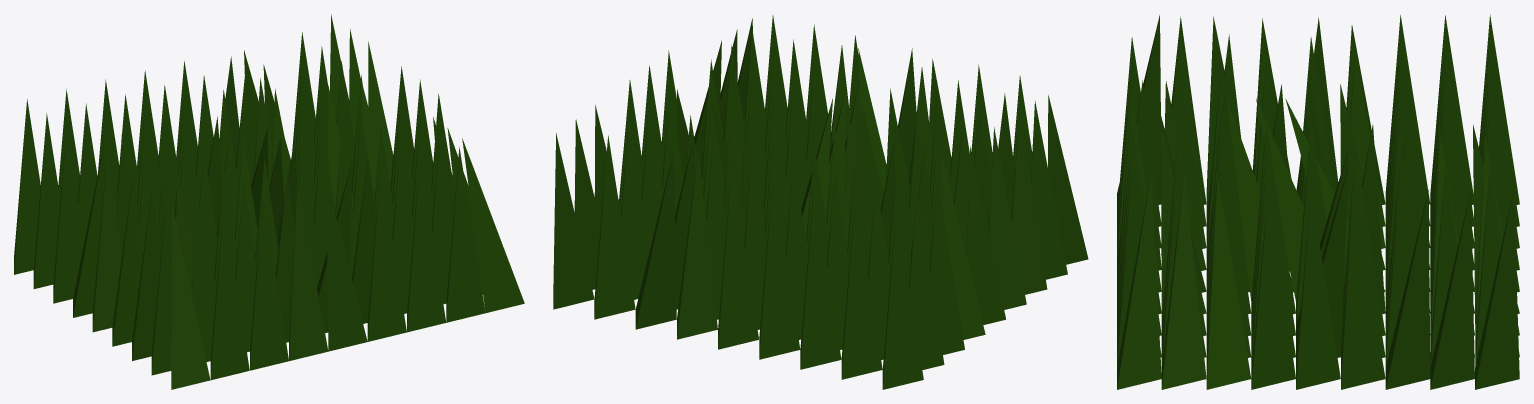
File: Grass.fbx
3 renders of one model, left to right at view 1: azimuth 30°, elevation 25°; view 2: azimuth 150°, elevation 25°; view 3: azimuth 270°, elevation 25°, orthographic. The views are drawn at different scales.
Parts seen in each view (by area): view 1: Cylinder; view 2: Cylinder; view 3: Cylinder.
Part boxes in pixels (x1,y1,x2,y2): Cylinder: (14, 14, 524, 389); Cylinder: (553, 15, 1088, 389); Cylinder: (1117, 14, 1519, 389).
Size of the model in its own units: 173 by 78.33 by 150.
